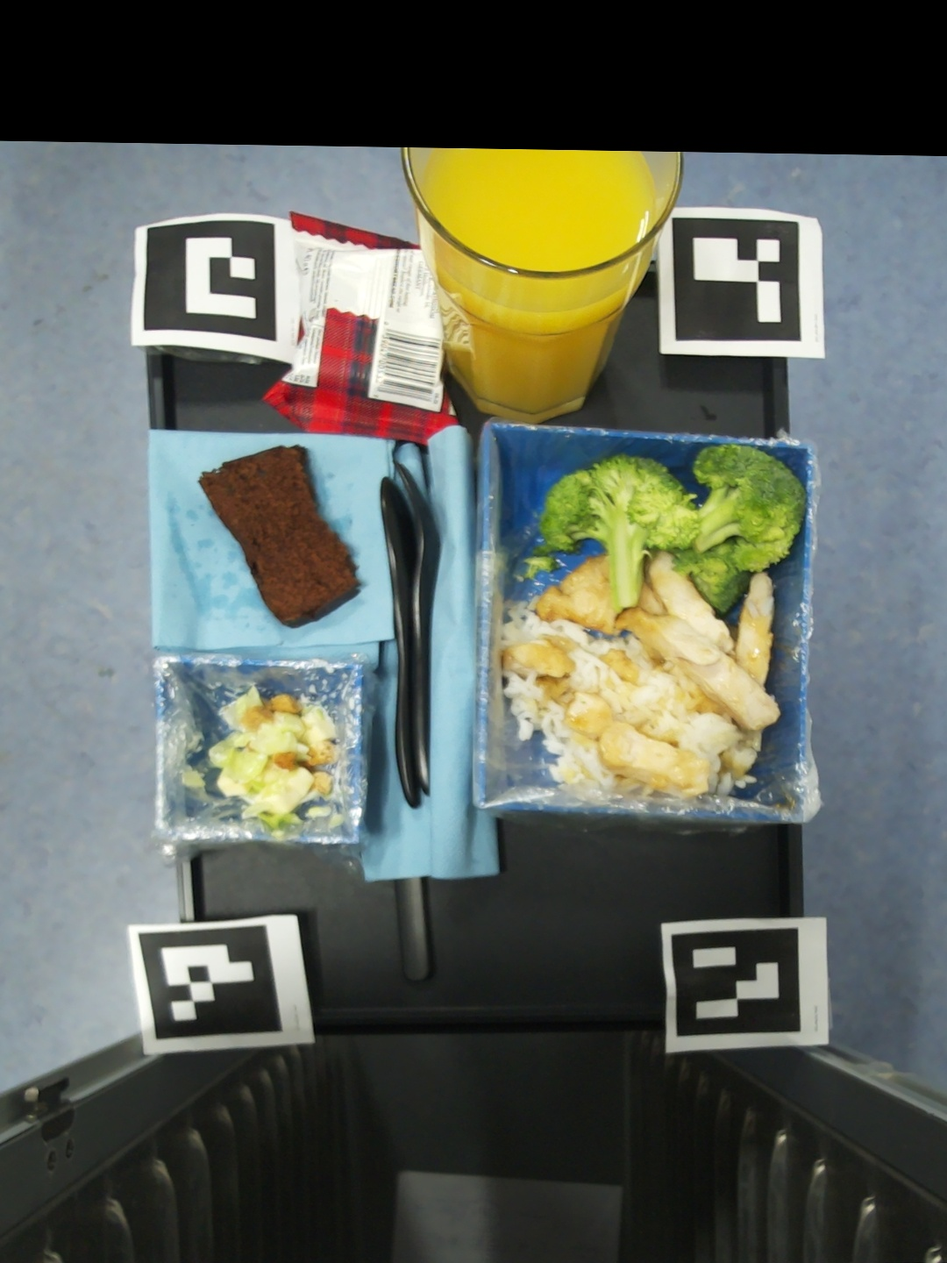broccoli: (524, 443, 806, 614)
brownie: (196, 445, 359, 627)
chicken: (617, 552, 782, 730), (564, 705, 662, 783), (502, 638, 575, 678)
cookie: (261, 211, 458, 446)
orange_juice_bottle: (401, 150, 683, 423)
rice: (501, 551, 764, 800), (757, 597, 775, 616), (747, 601, 759, 618), (728, 625, 739, 641), (753, 648, 760, 658), (738, 621, 742, 625), (744, 594, 748, 598)
side_salad: (208, 684, 339, 830), (180, 771, 205, 787), (305, 806, 331, 817), (329, 813, 344, 827)
